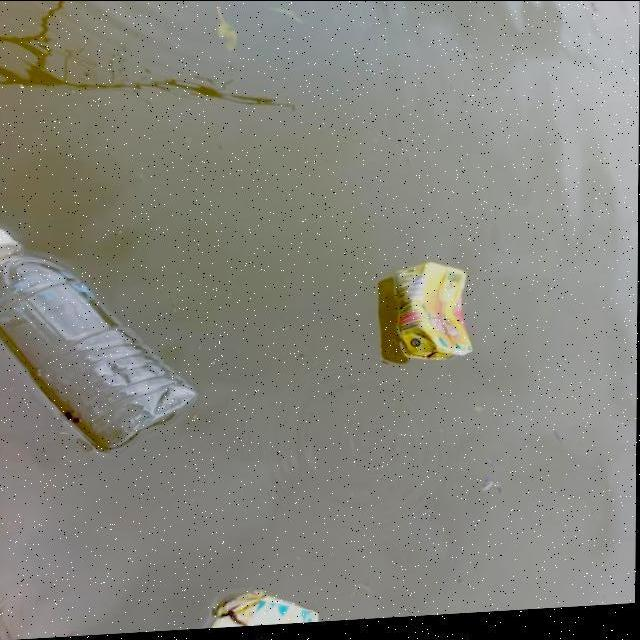Bottle: (0, 213, 204, 459)
Box: (378, 252, 486, 374)
